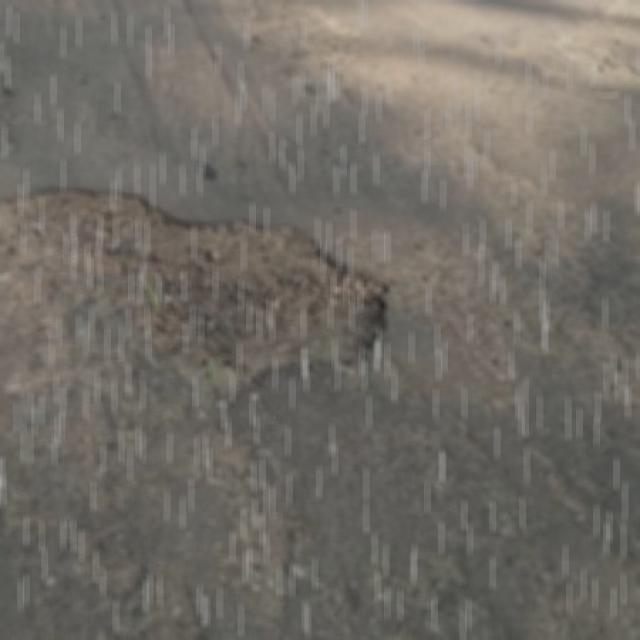road-pothole: (0, 186, 402, 422)
